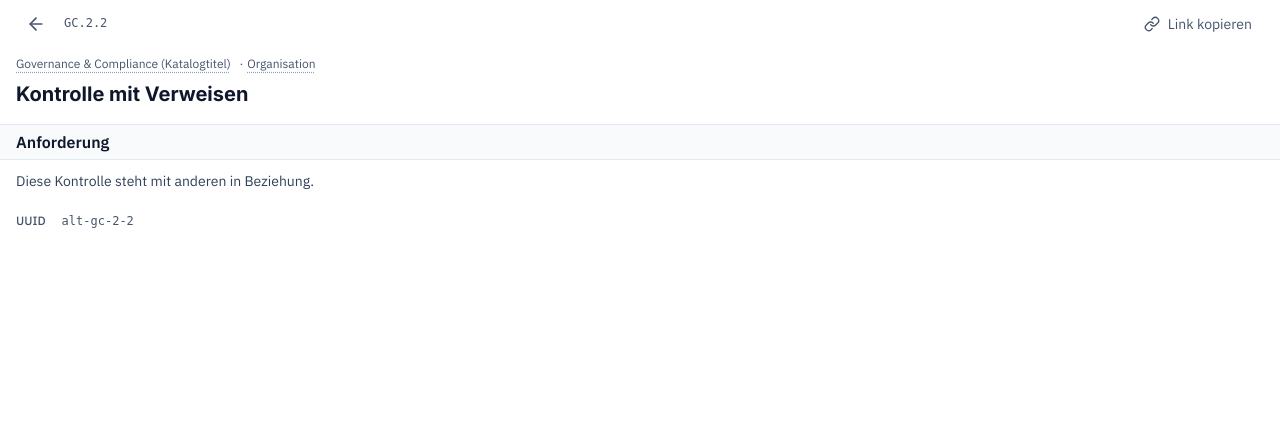
Scenario: ControlDetail › keeps the practice term visible when it differs from the breadcrumb name
What coordinates should you click on to do the following:
click the button with aria-label "Praktik: Governance & Compliance (Katalogtitel)"
I would click on:
 (126, 64)
Its box is [16,52,235,76].
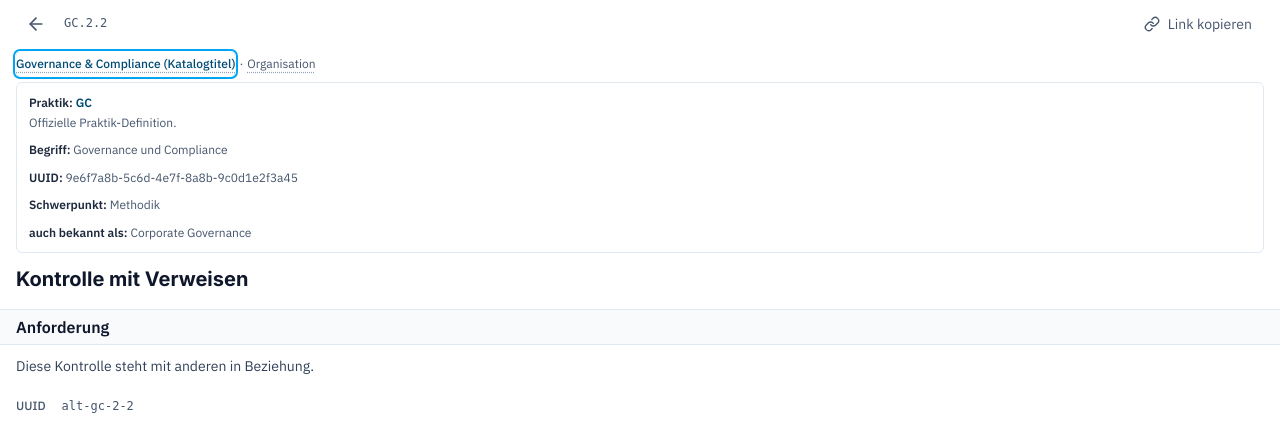
expect the text "Governance und Compliance" is shown: met, box [73,142,228,157]
expect the text "9e6f7a8b-5c6d-4e7f-8a8b-9c0d1e2f3a45" is shown: met, box [66,170,298,184]
